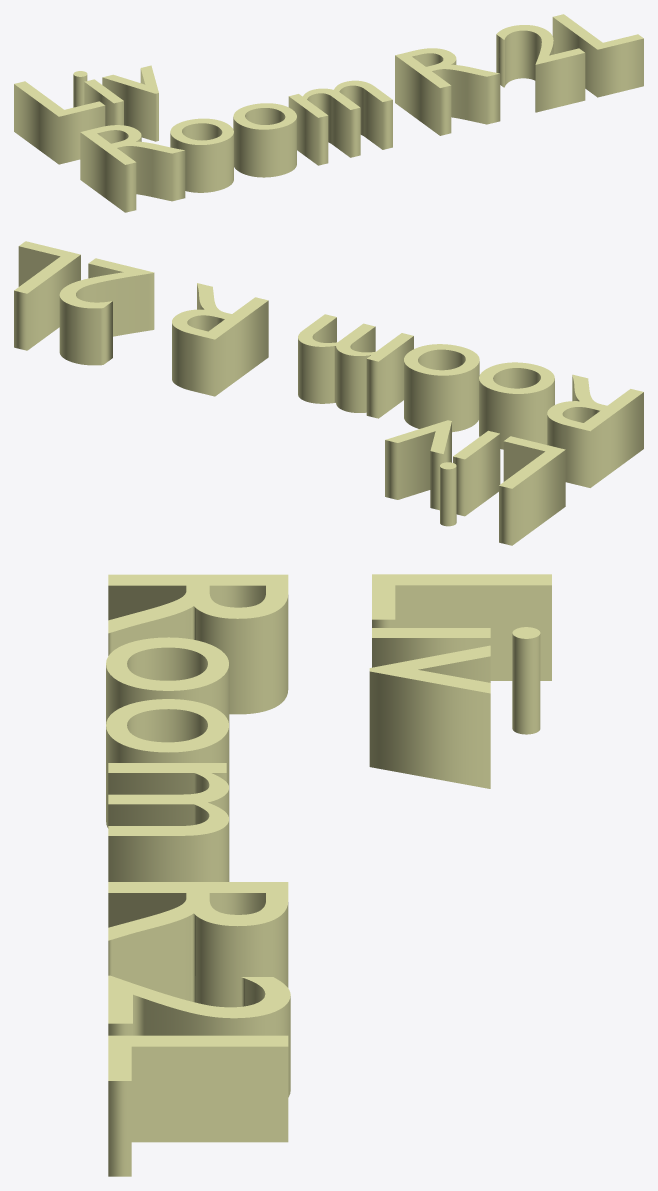
File: Liv-R 2L.gltf
The picture shows the model from 3 angles, top to bottom: view 1: azimuth 30°, elevation 25°; view 2: azimuth 150°, elevation 25°; view 3: azimuth 270°, elevation 25°; orthographic projection. The views are drawn at different scales.
Visible parts, largest first — view 1: Text; view 2: Text; view 3: Text.
Part boxes in pixels (bbox=[...]): Text: bbox=[14, 14, 643, 212]; Text: bbox=[14, 241, 643, 545]; Text: bbox=[106, 574, 551, 1176].
Size of the model in its own units: 4.55 by 0.4 by 1.69.
